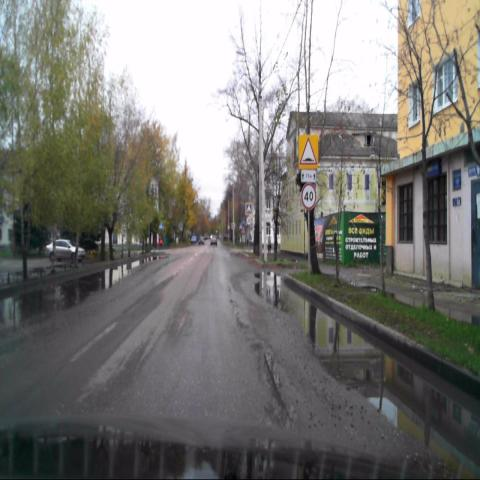1_17: (298, 133, 319, 168)
